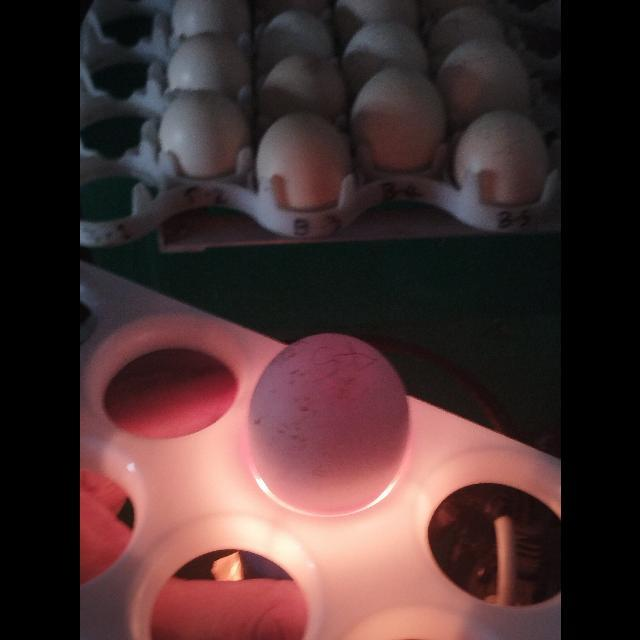Fertile: (248, 335, 414, 513)
